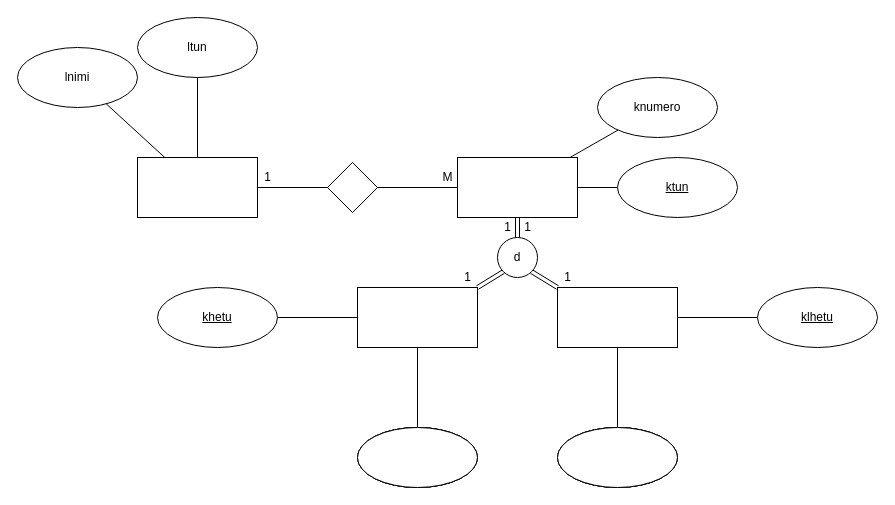
Image size: 895x505. Some labels were removed from this diagram. The box of each missing label's shape, as (x1, y1, x2, y2) in pixels:
Kartanlukija: (556, 286, 678, 348)
Kilpailija: (456, 156, 578, 218)
Kuljettaja: (356, 286, 478, 348)
Luokitus: (136, 156, 258, 218)
